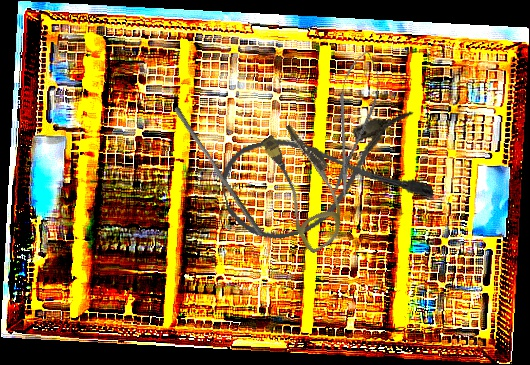Cannula: (214, 107, 436, 249), (247, 118, 364, 255)
Micro Scissor: (320, 47, 387, 199)
Pusher: (169, 105, 269, 238)
